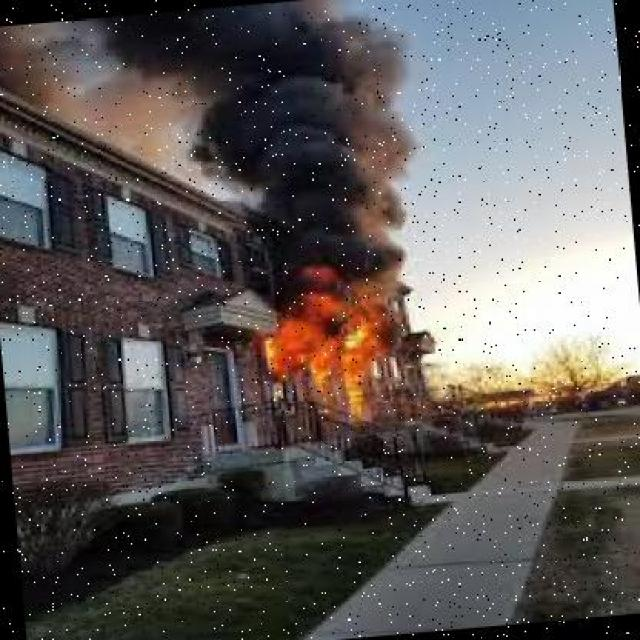fire: (230, 254, 438, 446)
